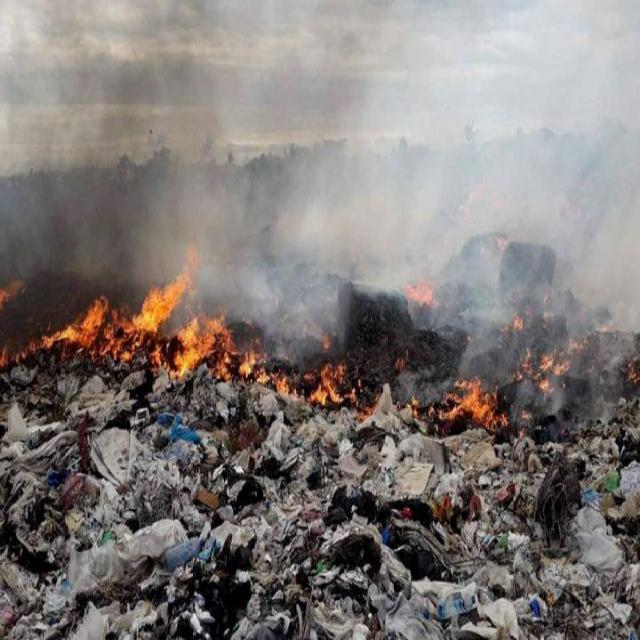Fire: (4, 276, 264, 386), (442, 372, 500, 431), (308, 356, 360, 421)
Smoke: (0, 0, 624, 377)
